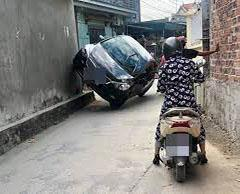car: (44, 22, 158, 108)
motorcycle: (146, 103, 218, 187)
